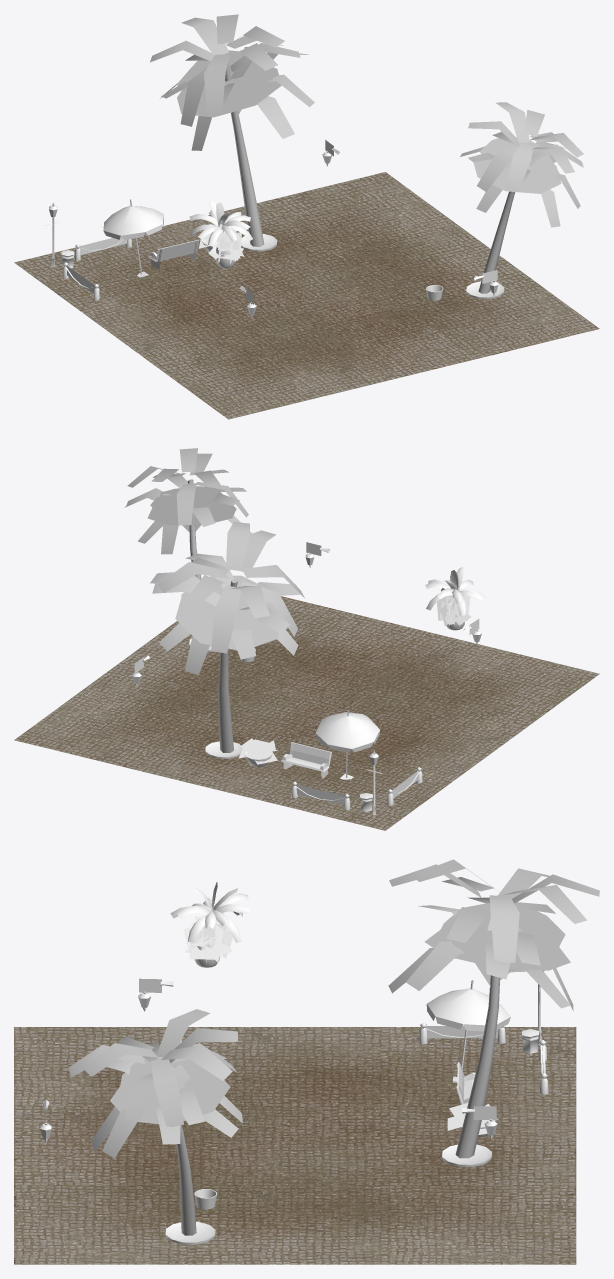
Rendered from propsonly_6b.gltf.
3 renders of one model, top to bottom at view 1: azimuth 30°, elevation 25°; view 2: azimuth 150°, elevation 25°; view 3: azimuth 270°, elevation 25°, orthographic. The views are drawn at different scales.
Parts seen in each view (by area): view 1: ground.015, prop_tree1.008, prop_tree1.007, prop_sunshade1.009, prop_treepot_tree1.007, prop_bench1.012, prop_treepot_bush1.007, prop_chain_fence1.014; view 2: ground.015, prop_tree1.008, prop_tree1.007, prop_sunshade1.009, prop_treepot_tree1.007, prop_bench1.012, prop_treepot_bush1.007, prop_pot_flower1.008, prop_chain_fence1.014; view 3: ground.015, prop_tree1.008, prop_tree1.007, prop_sunshade1.009, prop_treepot_tree1.007, prop_treepot_bush1.007, prop_chain_fence1.016, prop_pot1.016, prop_pot1.017, prop_lamp1.023, prop_lamp1.021.
Boxes of the visible parts, left/top/right/bottom form: ground.015: left=14, top=172, right=599, bottom=419; prop_tree1.008: left=150, top=14, right=314, bottom=246; prop_tree1.007: left=460, top=102, right=583, bottom=293; prop_sunshade1.009: left=103, top=199, right=163, bottom=277; prop_treepot_tree1.007: left=189, top=201, right=252, bottom=245; prop_bench1.012: left=148, top=239, right=199, bottom=269; prop_treepot_bush1.007: left=208, top=229, right=244, bottom=263; prop_chain_fence1.014: left=74, top=236, right=131, bottom=260; ground.015: left=14, top=596, right=599, bottom=830; prop_tree1.008: left=150, top=522, right=304, bottom=752; prop_tree1.007: left=125, top=448, right=251, bottom=645; prop_sunshade1.009: left=315, top=710, right=379, bottom=779; prop_treepot_tree1.007: left=425, top=567, right=485, bottom=615; prop_bench1.012: left=281, top=742, right=331, bottom=778; prop_treepot_bush1.007: left=437, top=595, right=470, bottom=625; prop_pot_flower1.008: left=238, top=738, right=277, bottom=764; prop_chain_fence1.014: left=291, top=781, right=350, bottom=810; ground.015: left=14, top=1027, right=576, bottom=1264; prop_tree1.008: left=388, top=859, right=599, bottom=1158; prop_tree1.007: left=68, top=1009, right=242, bottom=1235; prop_sunshade1.009: left=426, top=980, right=510, bottom=1082; prop_treepot_tree1.007: left=170, top=882, right=249, bottom=942; prop_treepot_bush1.007: left=183, top=916, right=232, bottom=962; prop_chain_fence1.016: left=419, top=1022, right=505, bottom=1044; prop_pot1.016: left=165, top=1221, right=215, bottom=1244; prop_pot1.017: left=442, top=1144, right=491, bottom=1166; prop_lamp1.023: left=462, top=1106, right=497, bottom=1139; prop_lamp1.021: left=138, top=978, right=173, bottom=1011.
Size of what is drawn, in the model's own units: 3.67 by 1.95 by 3.44.
